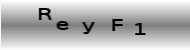1: (132, 22, 147, 37)
F: (109, 17, 124, 31)
R: (37, 7, 53, 22)
e: (54, 20, 69, 30)
y: (80, 20, 95, 34)
